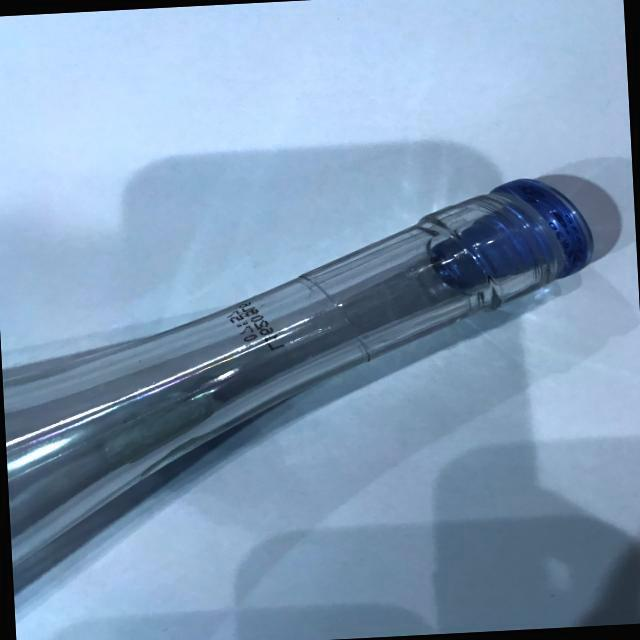glass: (0, 162, 634, 616)
